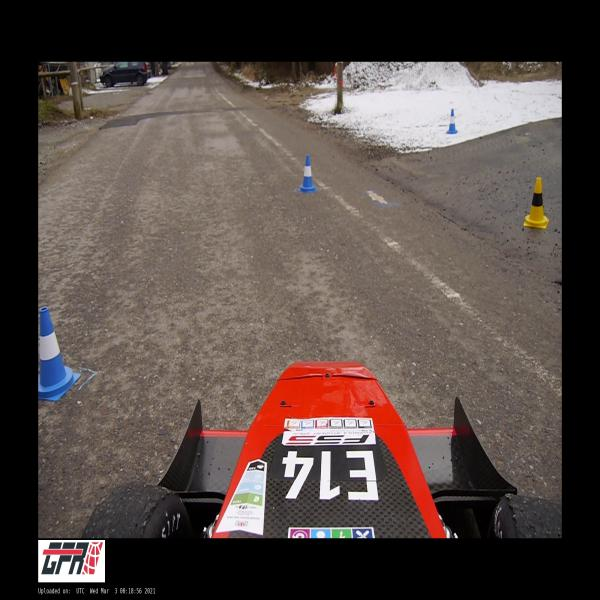blue_cone: (38, 307, 81, 402), (298, 156, 318, 193), (447, 109, 458, 133)
yellow_cone: (524, 177, 549, 228)
